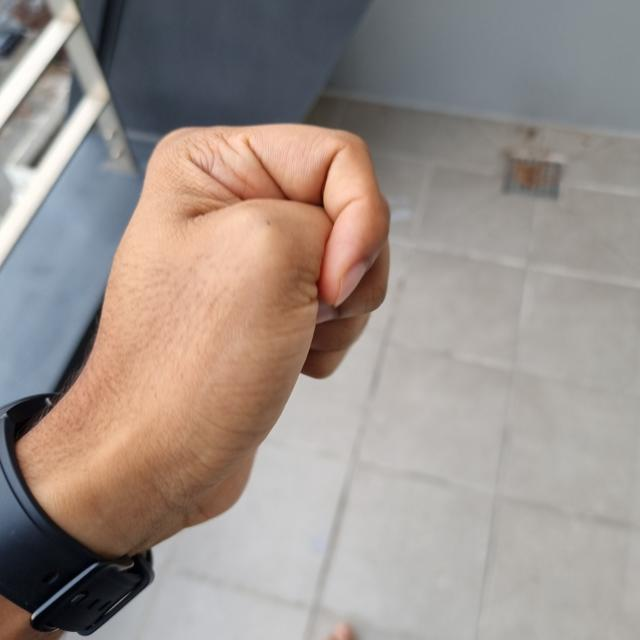Rock: (64, 125, 386, 530)
